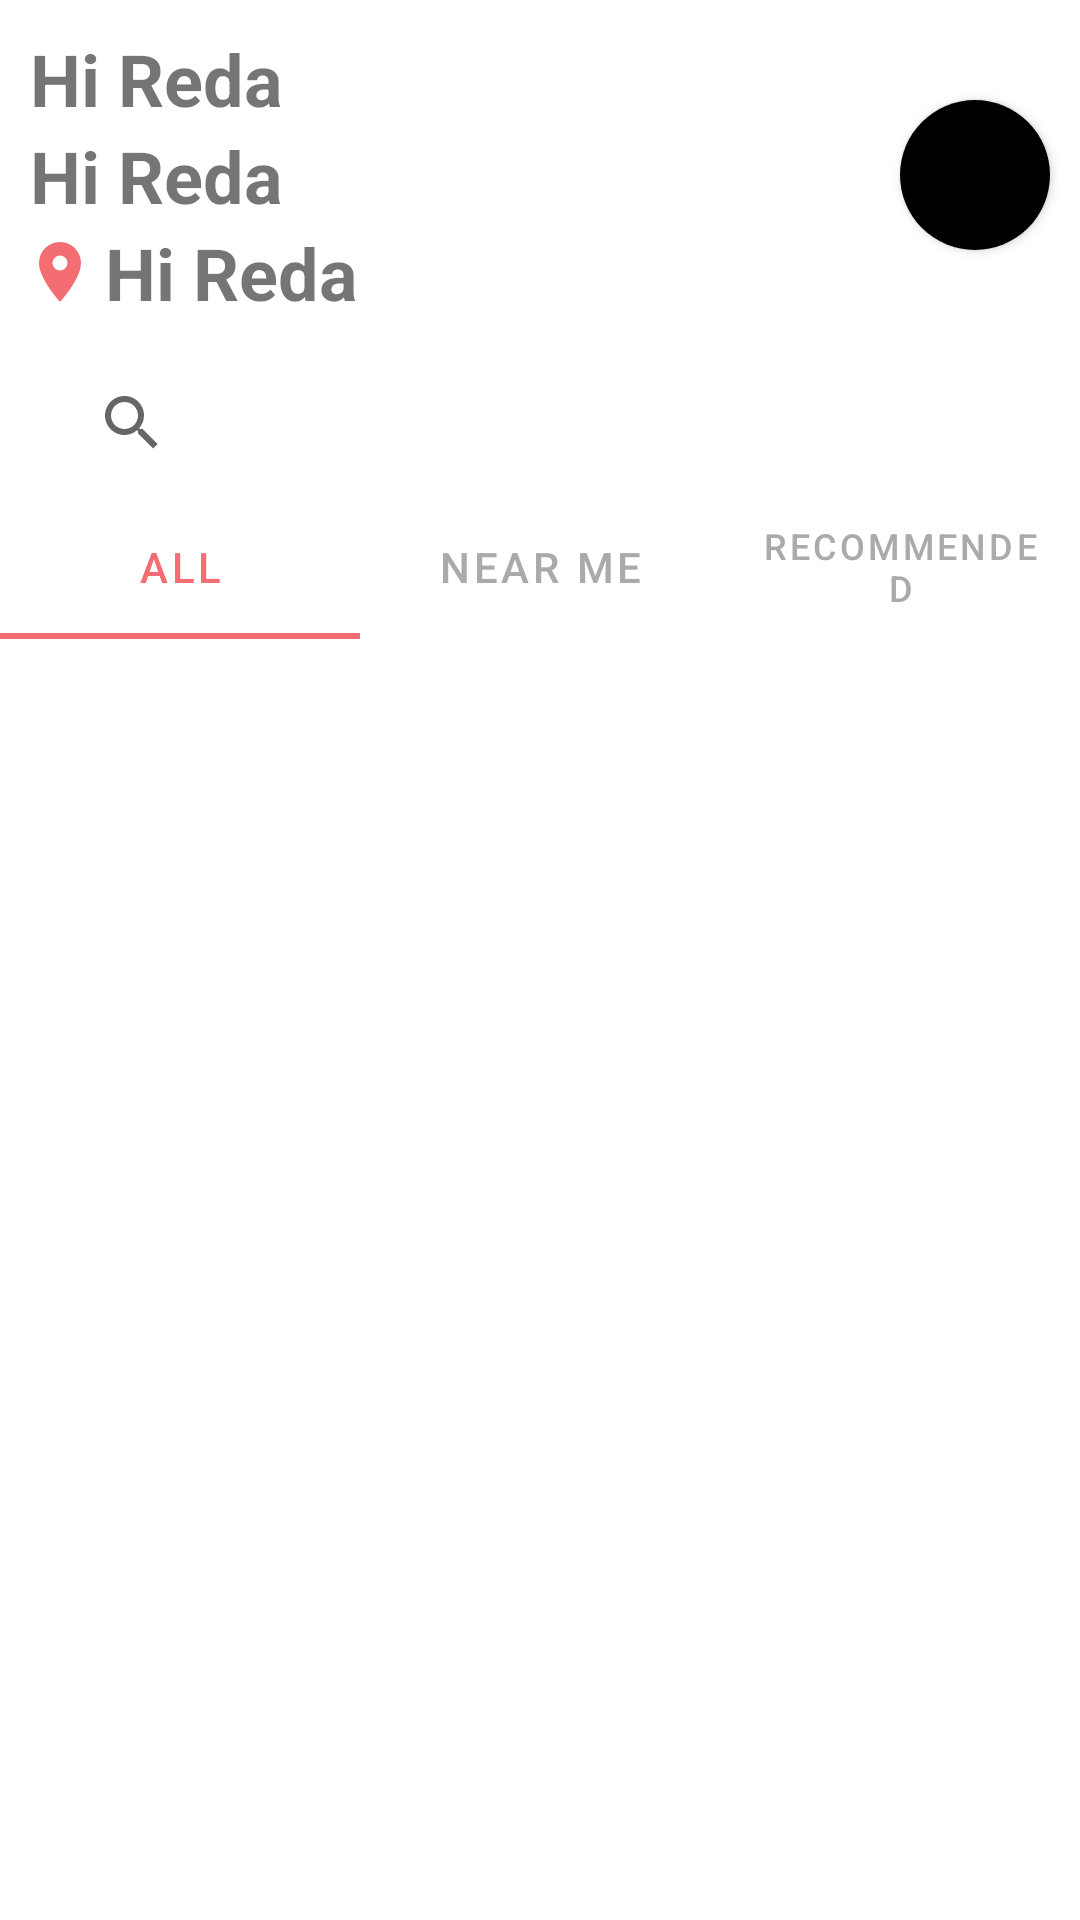

Screen size 1080px x 1920px. Icon name, then its center in pixels as [x,y]:
location: [60,272]
